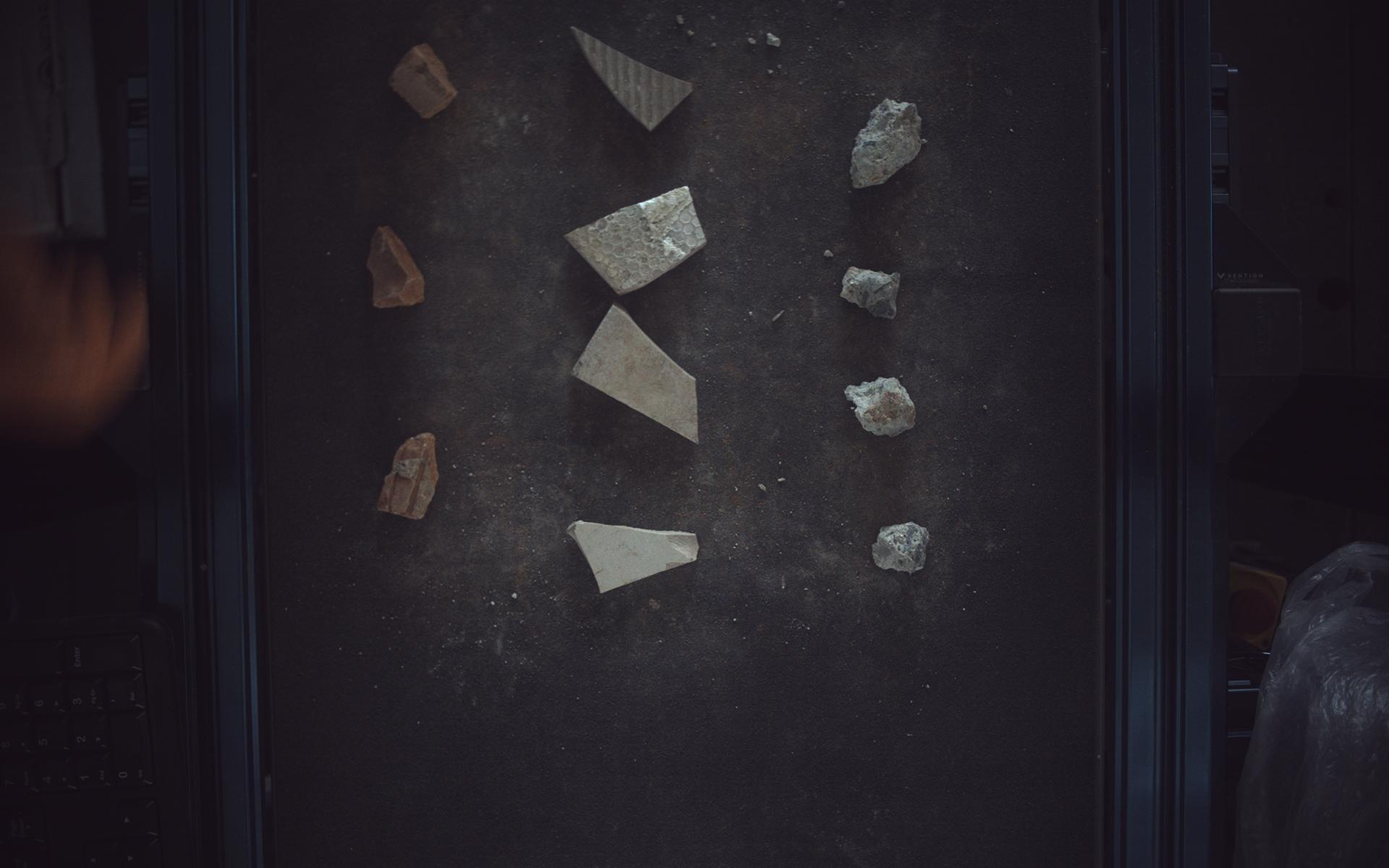brick: (377, 433, 438, 520), (389, 42, 457, 118), (367, 225, 425, 308)
concrete: (851, 97, 924, 187), (846, 377, 917, 437), (842, 267, 901, 318), (874, 522, 931, 573)
tile: (573, 305, 699, 443), (566, 186, 707, 294), (572, 25, 694, 129), (567, 521, 700, 593)
